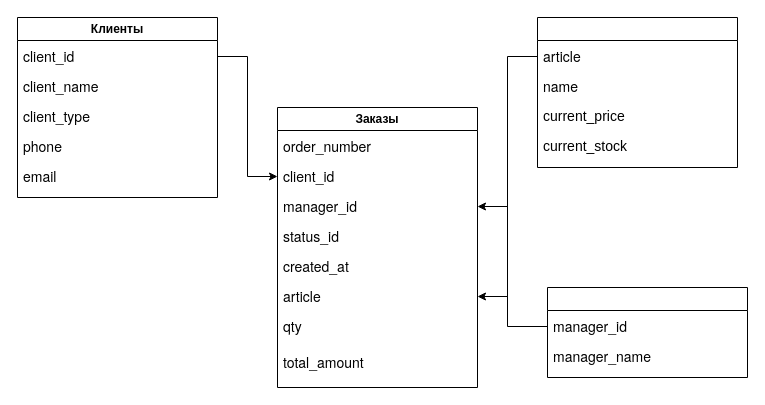
The diagram is 765 pixels wide and 405 high, and some of its shapes have lost their labels. Here are the shapes that lost their labels. From the top down, the box of each, then its label:
(536, 16, 738, 168): Продукция
(546, 286, 748, 378): Менеджеры
